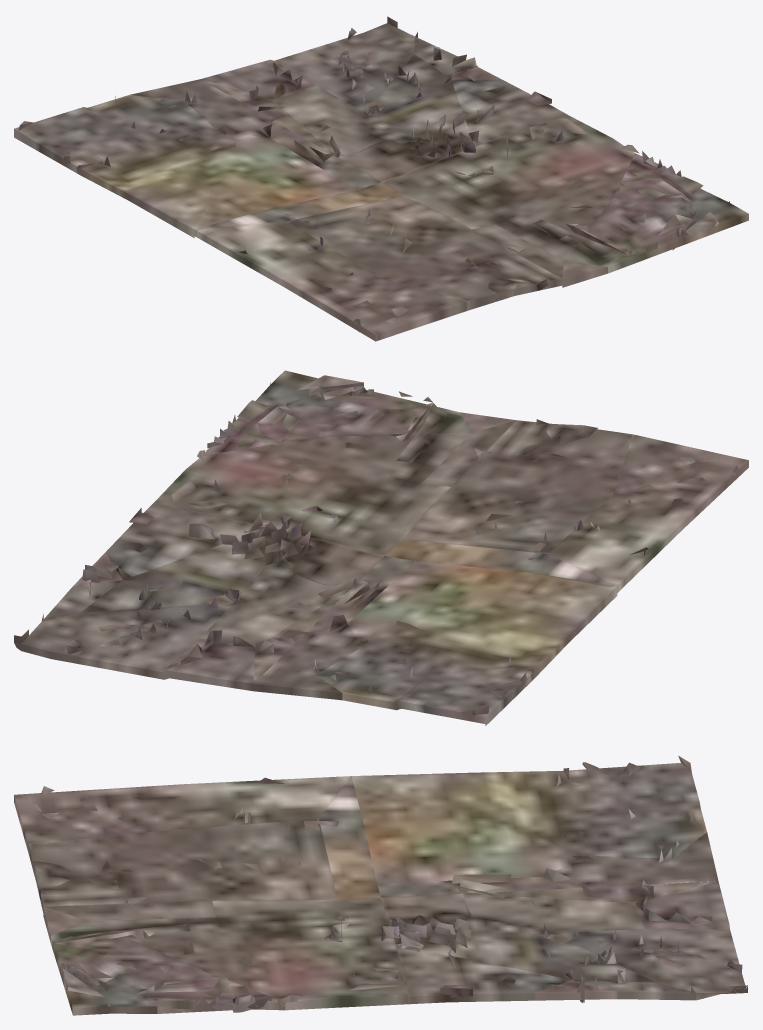
3 renders of one model, top to bottom at view 1: azimuth 30°, elevation 25°; view 2: azimuth 150°, elevation 25°; view 3: azimuth 270°, elevation 25°, orthographic. The views are drawn at different scales.
Parts seen in each view (by area): view 1: Mesh_0; view 2: Mesh_0; view 3: Mesh_0.
Part boxes in pixels (x1,y1,x2,y2): Mesh_0: (14, 16, 748, 341); Mesh_0: (14, 370, 748, 725); Mesh_0: (14, 755, 747, 1015).
Bounding box in the file's own units: 2131 × 198 × 2640.
Materials: 1 (1 with a texture image).
